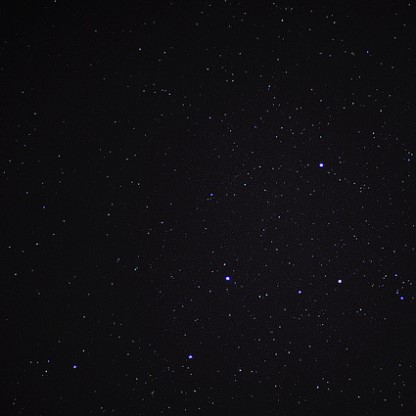Cassiopeia: (329, 272, 350, 294), (312, 155, 331, 173), (182, 347, 199, 362), (219, 269, 235, 284), (66, 358, 80, 373)
